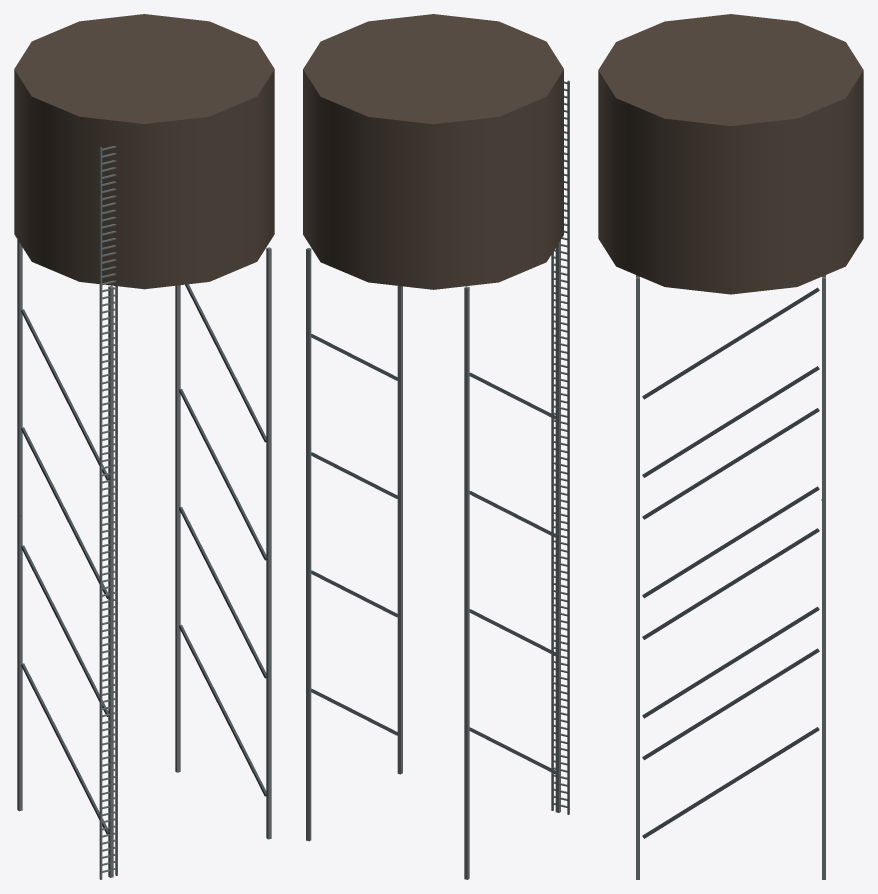
Rendered from water-tower-3.glb.
3 views of the same model, side by side, from view 1: azimuth 30°, elevation 25°; view 2: azimuth 150°, elevation 25°; view 3: azimuth 270°, elevation 25° (orthographic).
Visible parts, largest first — view 1: water-tower/2/KR-230-3; view 2: water-tower/2/KR-230-3; view 3: water-tower/2/KR-230-3.
Part boxes in pixels (box(x1,y1,x2,y2)): water-tower/2/KR-230-3: box(14, 14, 274, 879); water-tower/2/KR-230-3: box(303, 14, 569, 879); water-tower/2/KR-230-3: box(598, 14, 863, 879).
Size of the model in its own units: 10 by 32 by 10.
